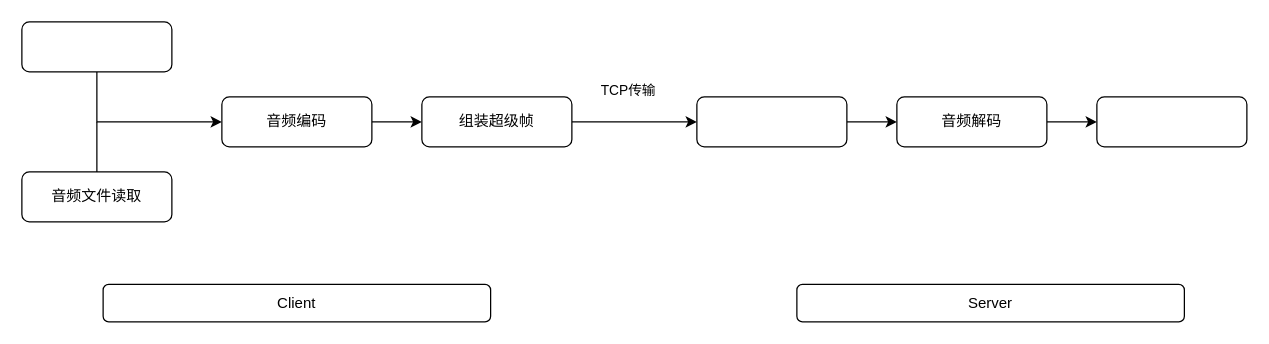
The diagram is 1269 pixels wide and 344 high, and some of its shapes have lost their labels. Each missing label, with the centre of its shape:
接收超级帧: the point at 771,121
音频播放: the point at 1171,121
音频采集: the point at 96,46
